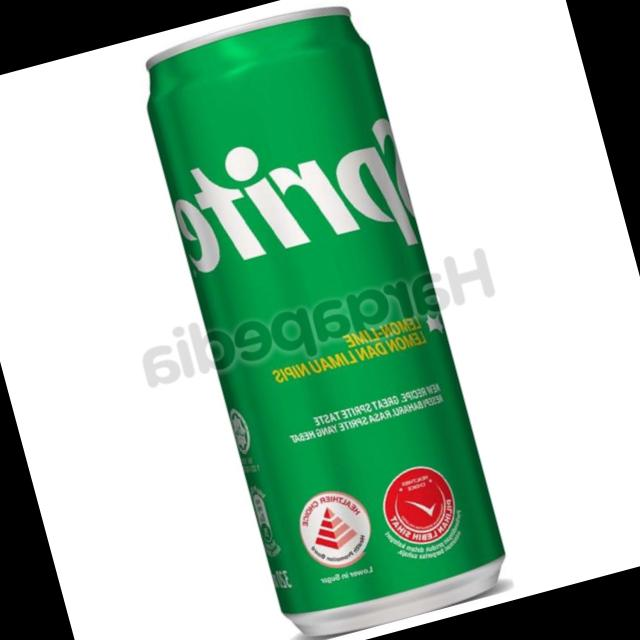sprite: (110, 0, 529, 640)
